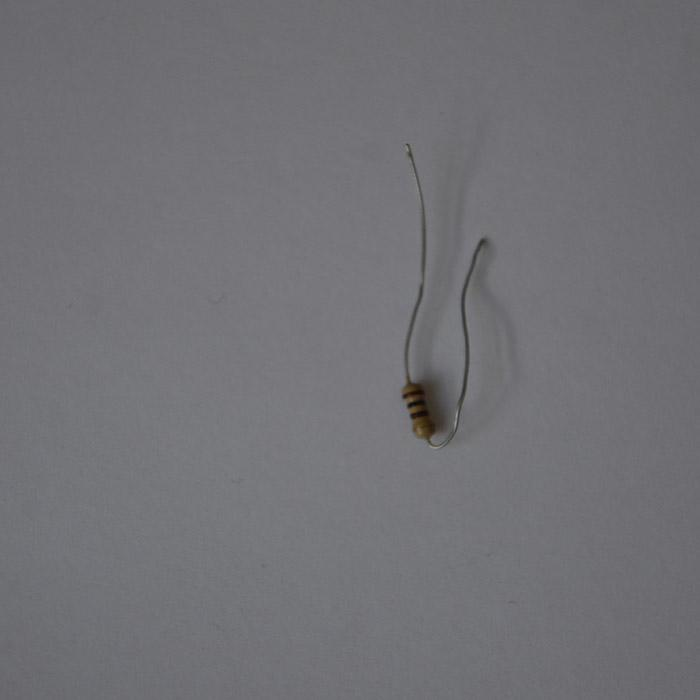resistor: (401, 379, 435, 442)
